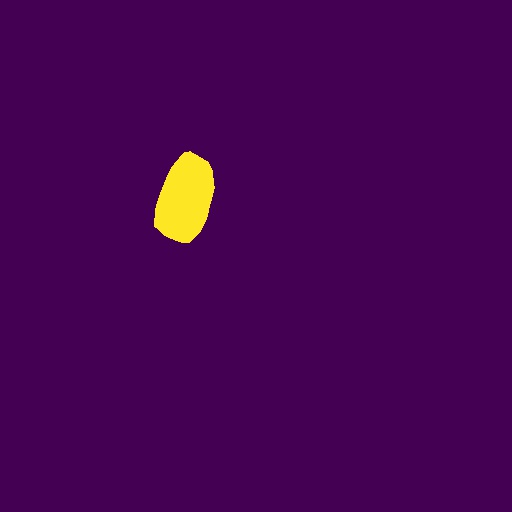Menigiomia_tumour: (154, 151, 215, 243)
